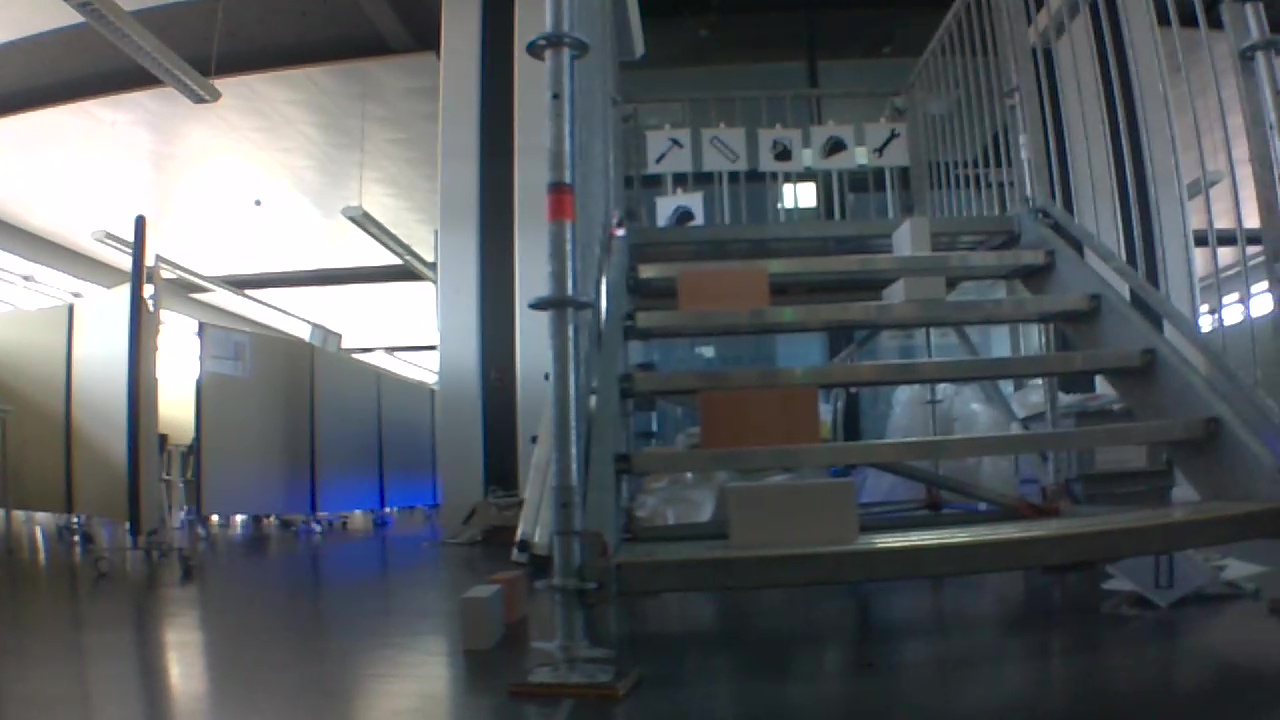brick: (728, 477, 857, 548), (700, 388, 817, 446), (676, 268, 767, 311), (462, 583, 502, 651), (491, 568, 523, 618), (885, 275, 945, 301), (891, 216, 929, 253)
bucket: (763, 131, 796, 168)
edge: (617, 509, 1277, 589), (617, 415, 1222, 470), (615, 348, 1153, 389), (623, 291, 1102, 326), (625, 249, 1056, 276), (626, 214, 1021, 235)
hammer: (650, 135, 688, 166)
ruler: (703, 130, 741, 165)
stairs: (513, 3, 1280, 697)
steps: (603, 198, 1280, 610)
taco: (815, 129, 851, 162), (658, 201, 699, 227)
wrench: (868, 122, 905, 162)
